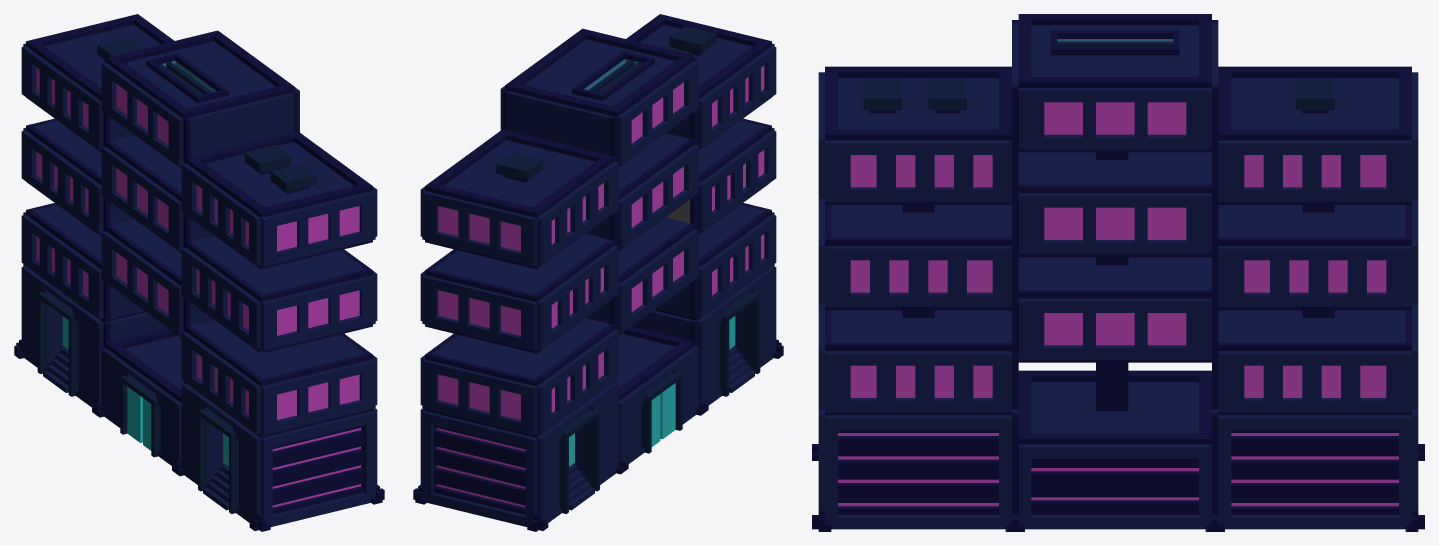
Rendered from SM_Environment_Building3.fbx.
3 renders of one model, left to right at view 1: azimuth 30°, elevation 25°; view 2: azimuth 150°, elevation 25°; view 3: azimuth 270°, elevation 25°, orthographic. The views are drawn at different scales.
Parts seen in each view (by area): view 1: SM_Environment_Building3; view 2: SM_Environment_Building3; view 3: SM_Environment_Building3.
Boxes of the visible parts, x1=… form: SM_Environment_Building3: x1=14, y1=14, x2=384, y2=531; SM_Environment_Building3: x1=413, y1=14, x2=783, y2=531; SM_Environment_Building3: x1=812, y1=14, x2=1424, y2=531.
Bounding box in the file's own units: 580 × 1520 × 1900.
3 materials, 1 textured.
